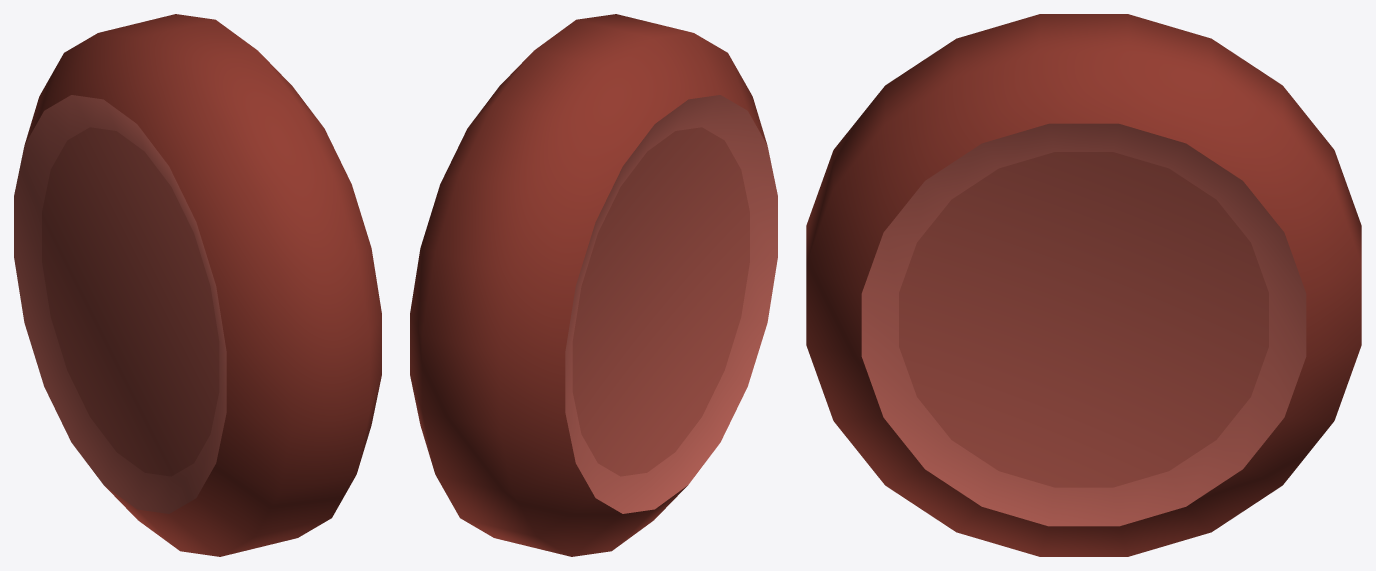
The model's file is tyrian10-26-f4.glb.
3 renders of one model, left to right at view 1: azimuth 30°, elevation 25°; view 2: azimuth 150°, elevation 25°; view 3: azimuth 270°, elevation 25°, orthographic. The views are drawn at different scales.
Visible parts, largest first — view 1: tyrian10-26-f4; view 2: tyrian10-26-f4; view 3: tyrian10-26-f4.
Part boxes in pixels (x1,y1,x2,y2): tyrian10-26-f4: (14,14,381,556); tyrian10-26-f4: (410,14,777,556); tyrian10-26-f4: (806,14,1361,556).
Bounding box in the file's own units: 0.25 × 0.7408 × 0.7408.
